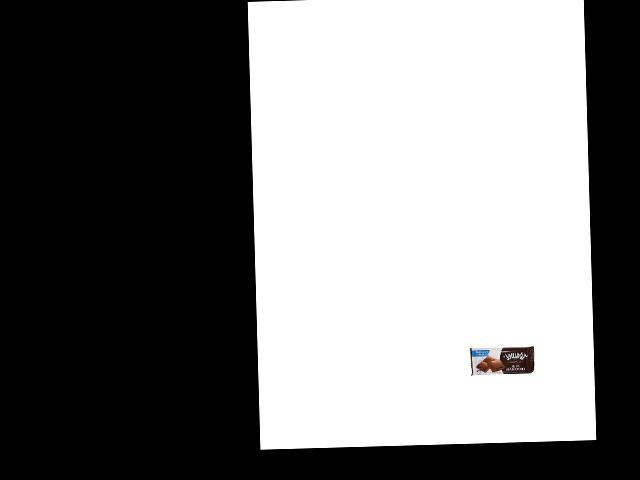chocolate: (469, 345, 534, 376)
